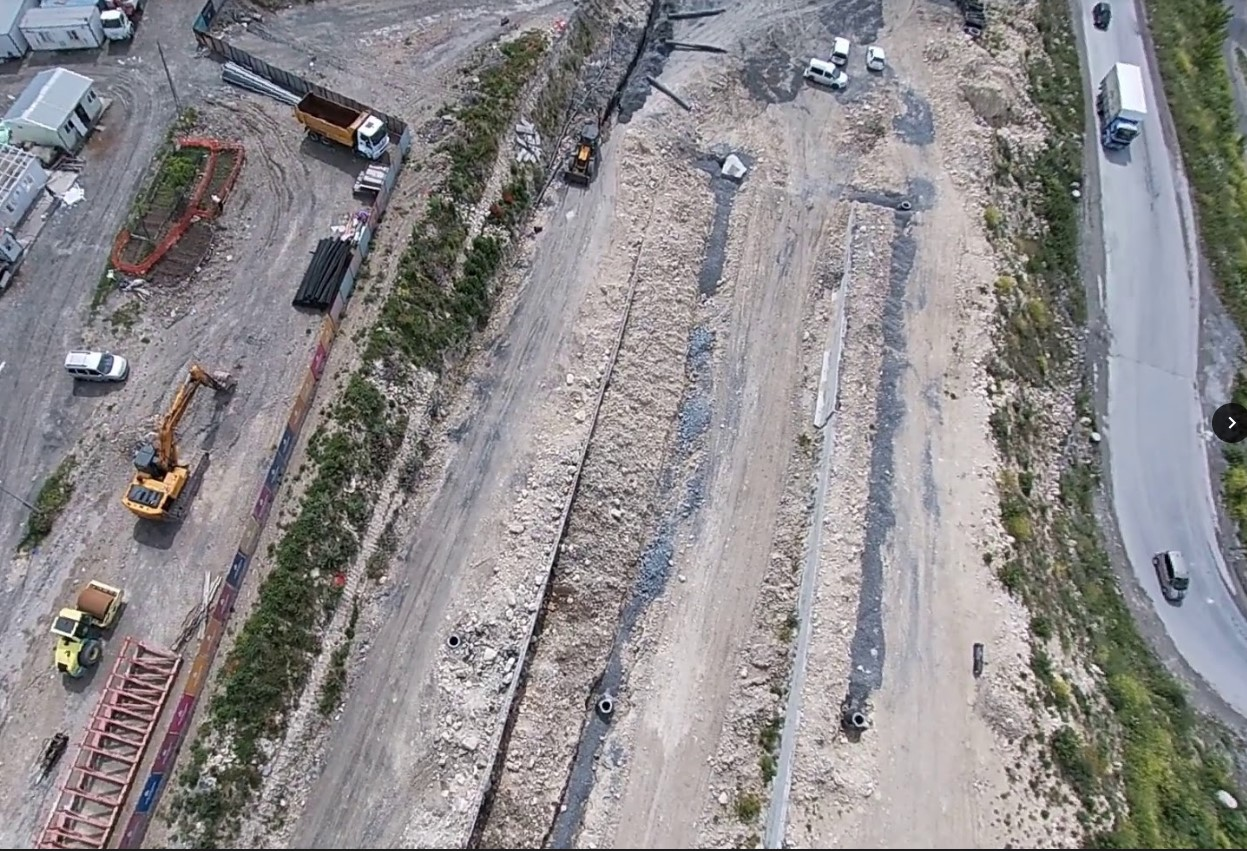araba: (62, 348, 132, 387), (1152, 549, 1192, 604), (803, 59, 846, 91), (831, 33, 854, 63), (1091, 1, 1113, 29), (865, 43, 887, 68)
ismakinasi: (122, 359, 236, 526)
kamyon: (292, 90, 389, 163), (1097, 63, 1150, 151)
traktor: (55, 575, 122, 683), (561, 120, 603, 185)
